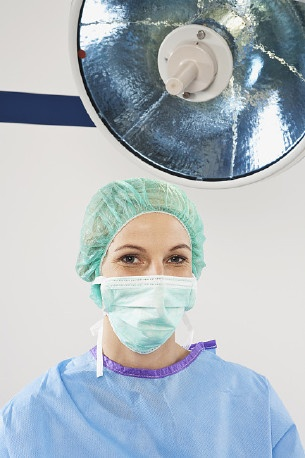Mask: (95, 236, 213, 354)
